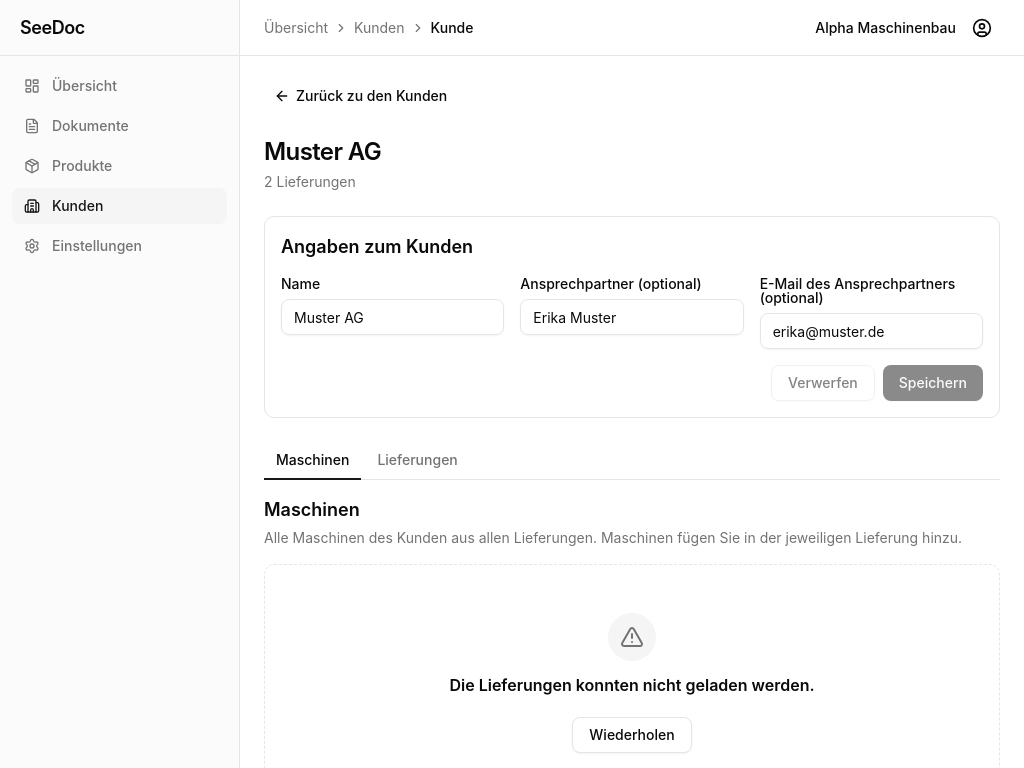
Test: CustomerDetailPage › shows a failed save in the form
The width and height of the screenshot is (1024, 768).
Replace the text in the field labelled "Name" with "Muster GmbH". click: [393, 317]
box: [281,299,504,335]
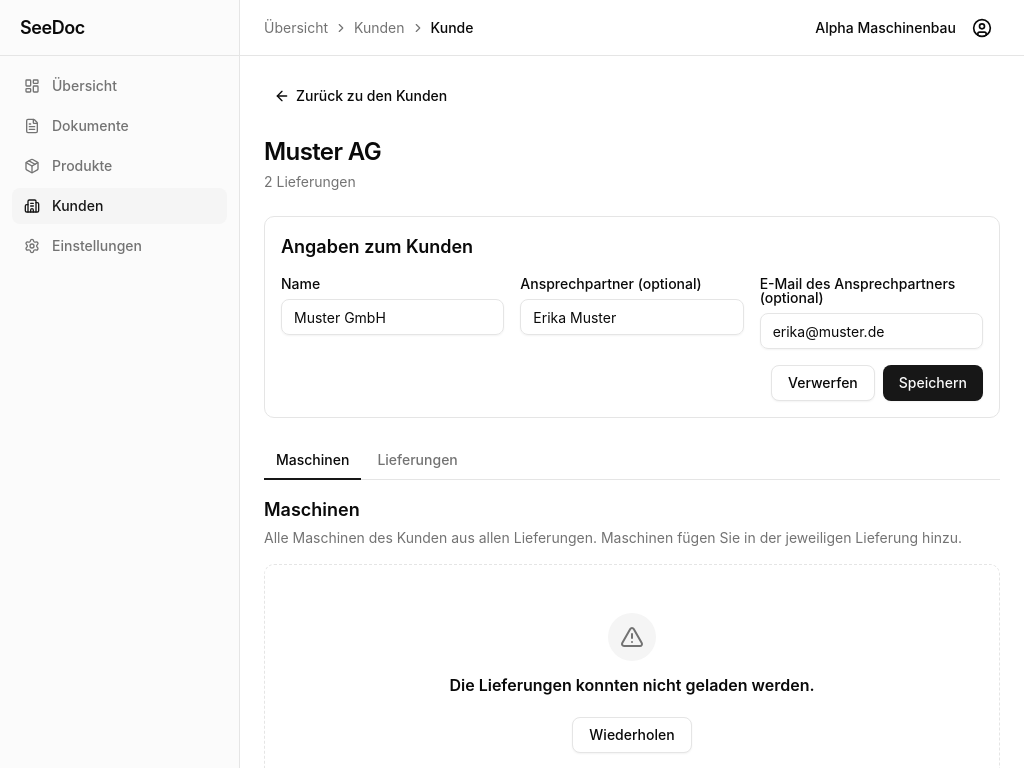
Click the button "Speichern". click: [933, 383]
box: [883,365,983,401]
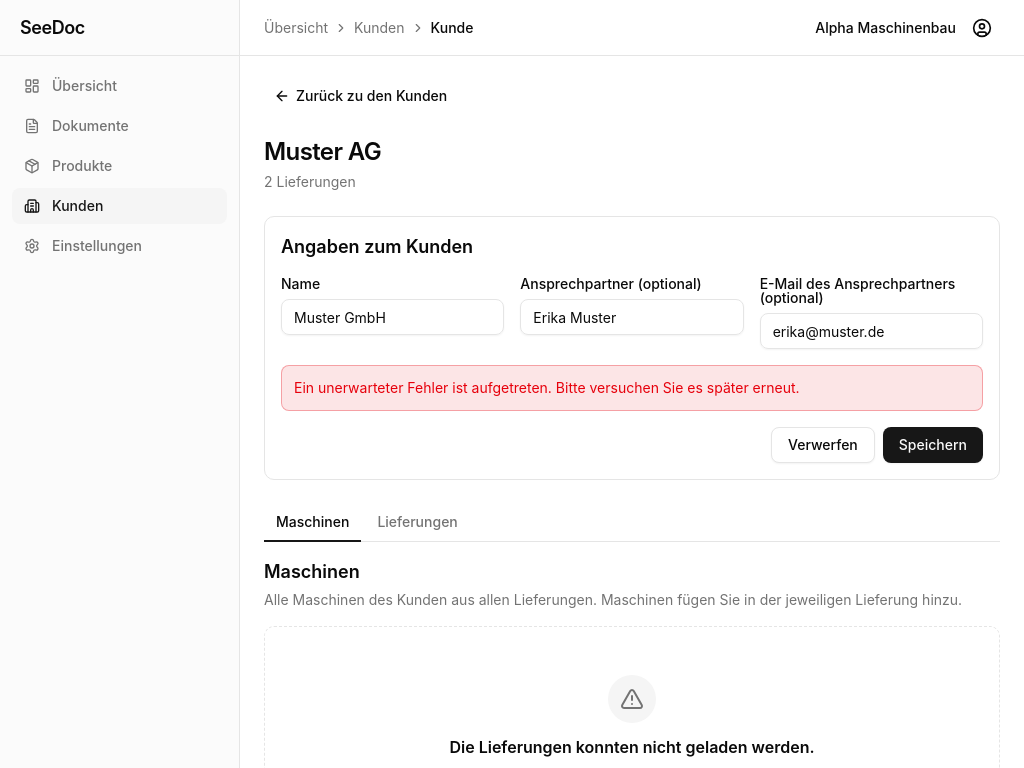
expect the message shows "Ein unerwarteter Fehler ist aufgetreten.": met, box [294,379,800,396]
